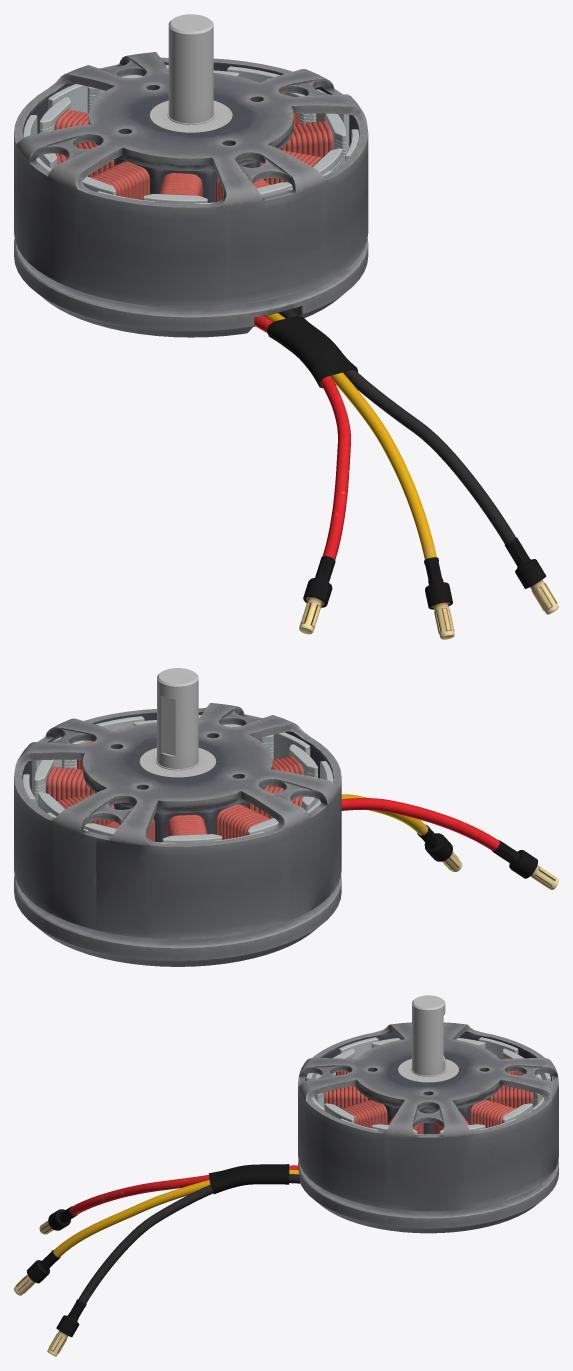
The model's file is project-assembly.glb.
3 renders of one model, top to bottom at view 1: azimuth 30°, elevation 25°; view 2: azimuth 150°, elevation 25°; view 3: azimuth 270°, elevation 25°, orthographic. The views are drawn at different scales.
Parts seen in each view (by area): view 1: Cylinder_008, polySurface9, Cylinder_011, Cube_002, Cube_008, polySurface11, polySurface12, BezierCurve_003, polySurface10, Cube_005, polySurface27_Motor_015_t_0_2, polySurface27_Motor_015_t_0_1 (+1 smaller); view 2: Cylinder_008, polySurface9, Cylinder_011, Cube_002, Cube_008, polySurface10, Cube_005, polySurface27, polySurface27_Motor_015_t_0_1, polySurface12, polySurface26; view 3: Cylinder_008, polySurface9, Cube_002, Cylinder_011, polySurface11, Cube_008, BezierCurve_003, polySurface12, polySurface10, Cube_005, polySurface27_Motor_015_t_0_2, polySurface27_Motor_015_t_0_1.
Part boxes in pixels (x1,y1,x2,y2): Cylinder_008: (14,52,368,307); polySurface9: (14,158,368,337); Cylinder_011: (149,14,232,132); Cube_002: (54,93,333,201); Cube_008: (37,70,346,203); polySurface11: (278,309,516,544); polySurface12: (264,313,436,559); BezierCurve_003: (267,316,357,388); polySurface10: (254,316,350,559); Cube_005: (23,65,358,204); polySurface27_Motor_015_t_0_2: (504,537,546,605); polySurface27_Motor_015_t_0_1: (424,557,452,631); Cylinder_008: (14,703,341,939); polySurface9: (14,801,341,966); Cylinder_011: (139,668,216,777); Cube_002: (46,741,304,841); Cube_008: (34,720,319,843); polySurface10: (341,798,499,850); Cube_005: (22,715,333,843); polySurface27: (492,840,554,885); polySurface27_Motor_015_t_0_1: (417,825,458,869); polySurface12: (341,794,428,835); polySurface26: (530,865,558,889); Cylinder_008: (298,1022,558,1211); polySurface9: (298,1098,558,1233); Cube_002: (324,1058,532,1134); Cylinder_011: (398,995,458,1082); polySurface11: (78,1174,300,1303); Cube_008: (314,1038,542,1134); BezierCurve_003: (208,1164,289,1194); polySurface12: (53,1169,298,1257); polySurface10: (69,1165,298,1215); Cube_005: (306,1037,550,1134); polySurface27_Motor_015_t_0_2: (55,1299,86,1352); polySurface27_Motor_015_t_0_1: (16,1250,60,1286).
Bounding box in the file's own units: 0.1601 × 0.2146 × 0.3344.
Materials: 1 (1 with a texture image).
